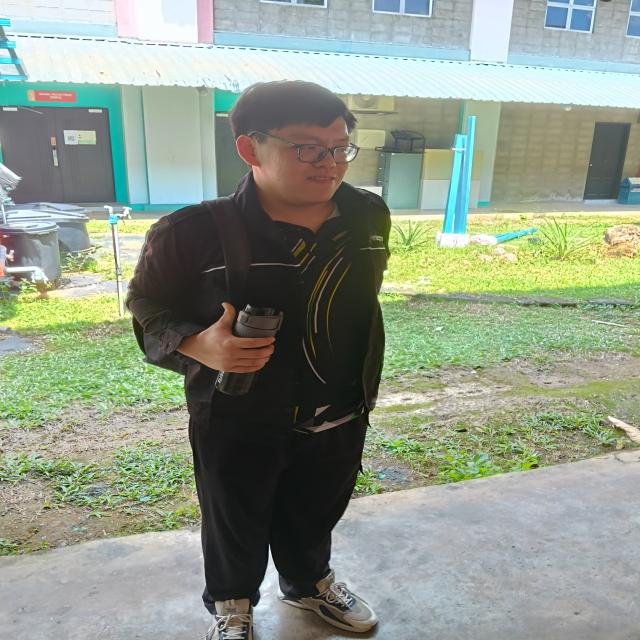person_with_labcoat: (127, 81, 390, 640)
